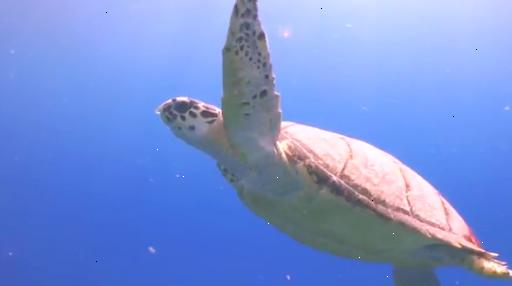Fish: (159, 0, 511, 285)
